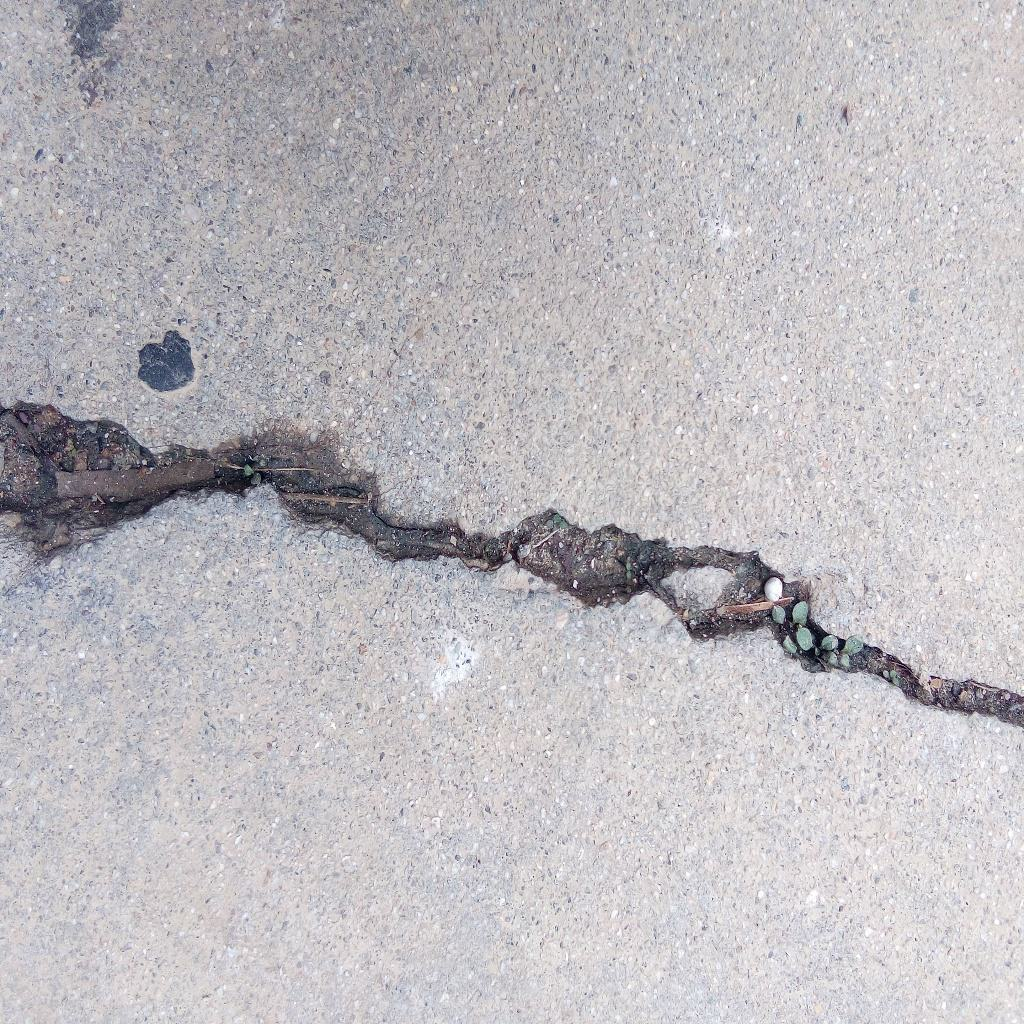Crack: (1, 400, 1024, 731)
